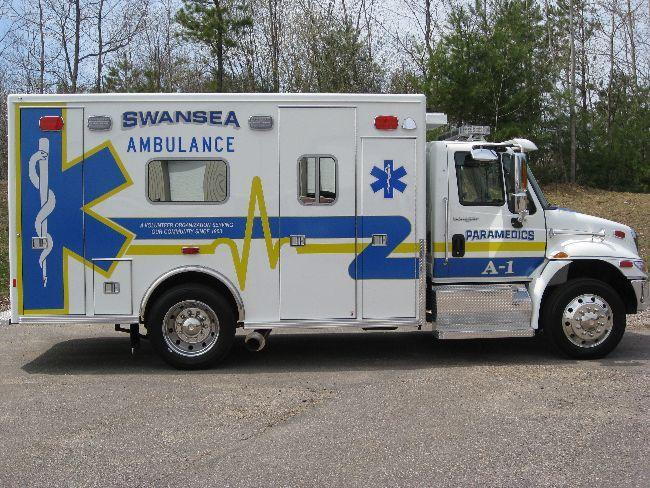Ambulance: (30, 132, 70, 300), (130, 132, 236, 156), (361, 161, 410, 200)
